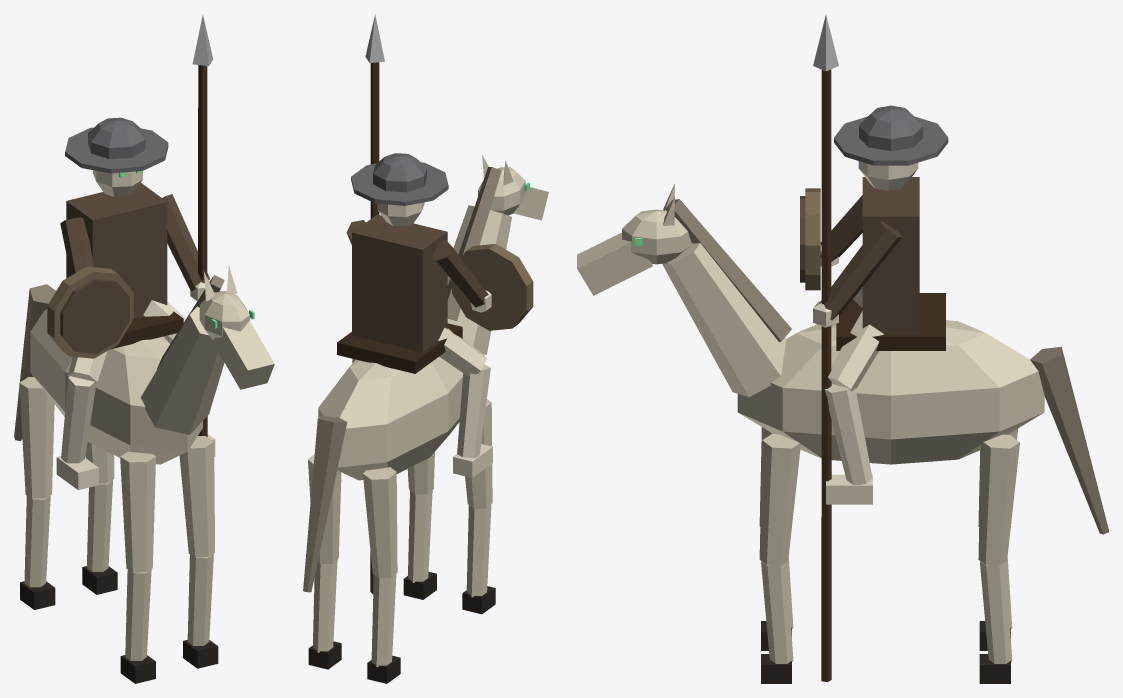
File: knochenreiter.glb
The picture shows the model from 3 angles, left to right: view 1: azimuth 30°, elevation 25°; view 2: azimuth 150°, elevation 25°; view 3: azimuth 270°, elevation 25°; orthographic projection. The views are drawn at different scales.
Size of the model in its own units: 0.8222 by 2.87 by 2.04.
1 material, 1 textured.
